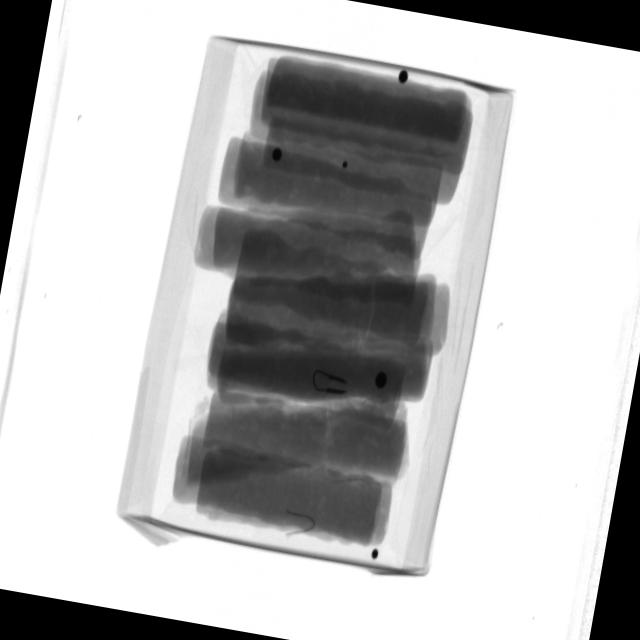ym: (281, 510, 318, 541), (313, 369, 351, 397), (375, 370, 391, 390), (397, 69, 411, 86), (272, 149, 283, 164), (371, 549, 380, 560), (342, 162, 349, 170)
